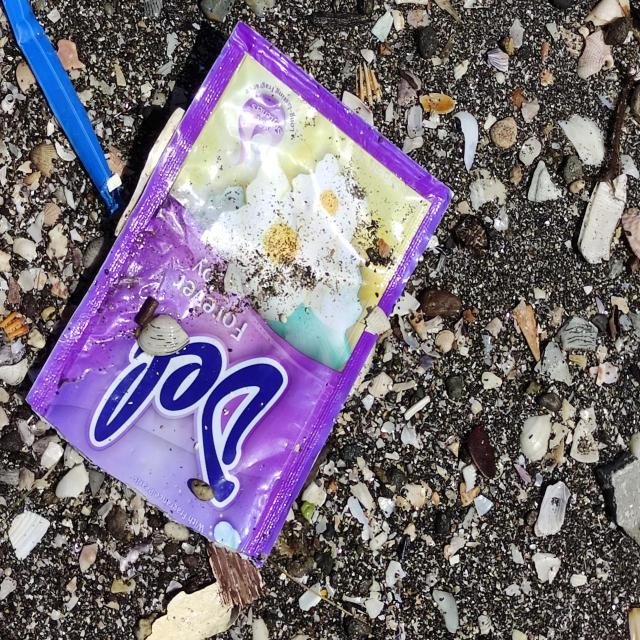plastic_waste: (25, 22, 461, 566)
